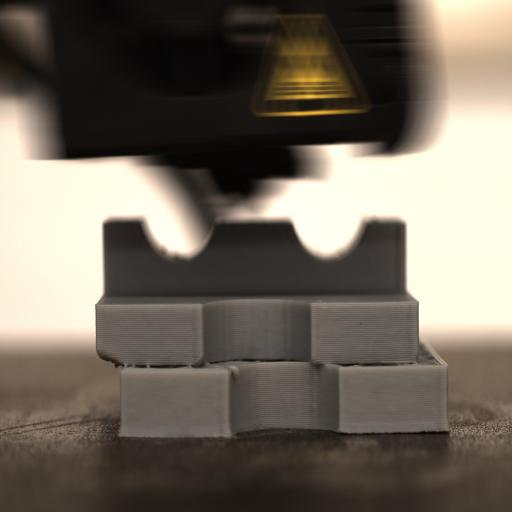layer_shift: (88, 340, 454, 384)
